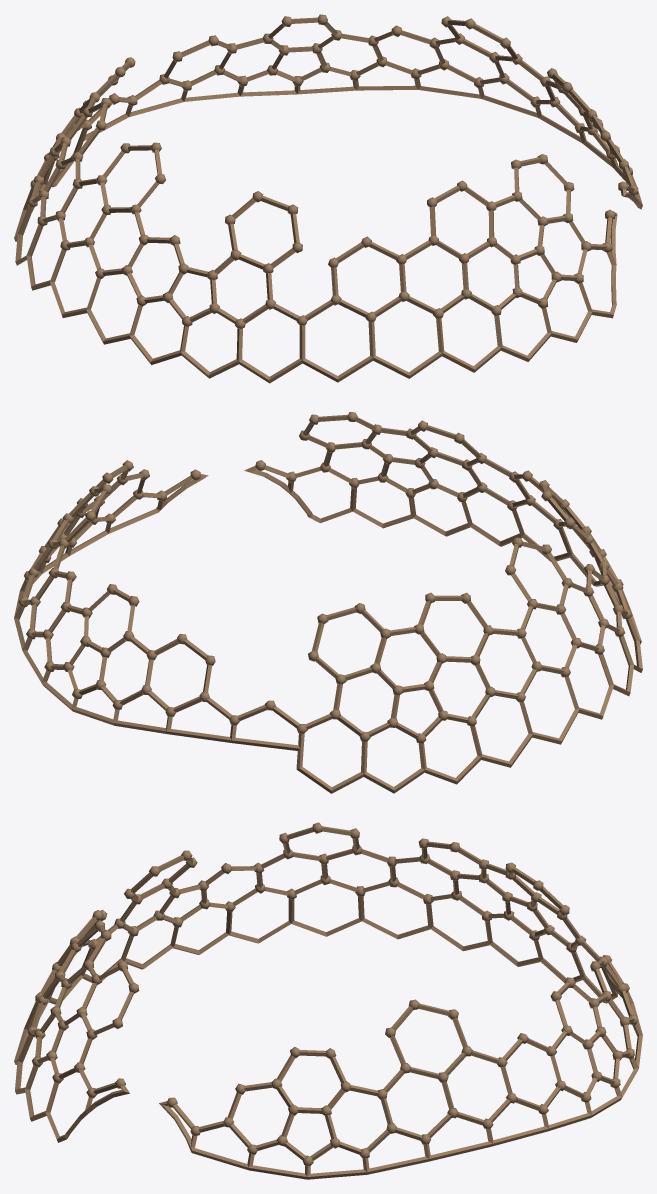
File: BOD_Bone_v1.glb
3 renders of one model, top to bottom at view 1: azimuth 30°, elevation 25°; view 2: azimuth 150°, elevation 25°; view 3: azimuth 270°, elevation 25°, orthographic.
Visible parts, largest first — view 1: Dome_v2_dissolving_wp_reduced, JointBalls_reduced; view 2: Dome_v2_dissolving_wp_reduced, JointBalls_reduced; view 3: Dome_v2_dissolving_wp_reduced, JointBalls_reduced.
Boxes of the visible parts, <box> form: Dome_v2_dissolving_wp_reduced: <box>14,17,642,383</box>; JointBalls_reduced: <box>28,14,638,328</box>; Dome_v2_dissolving_wp_reduced: <box>14,414,642,793</box>; JointBalls_reduced: <box>18,412,632,743</box>; Dome_v2_dissolving_wp_reduced: <box>14,826,642,1179</box>; JointBalls_reduced: <box>27,822,638,1166</box>.
Size of the model in its own units: 1.64 by 0.4677 by 1.63.
